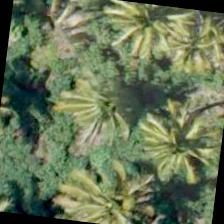Kelapa_Sawit: (38, 59, 138, 159), (127, 91, 223, 193), (53, 158, 152, 223), (84, 0, 181, 66)
